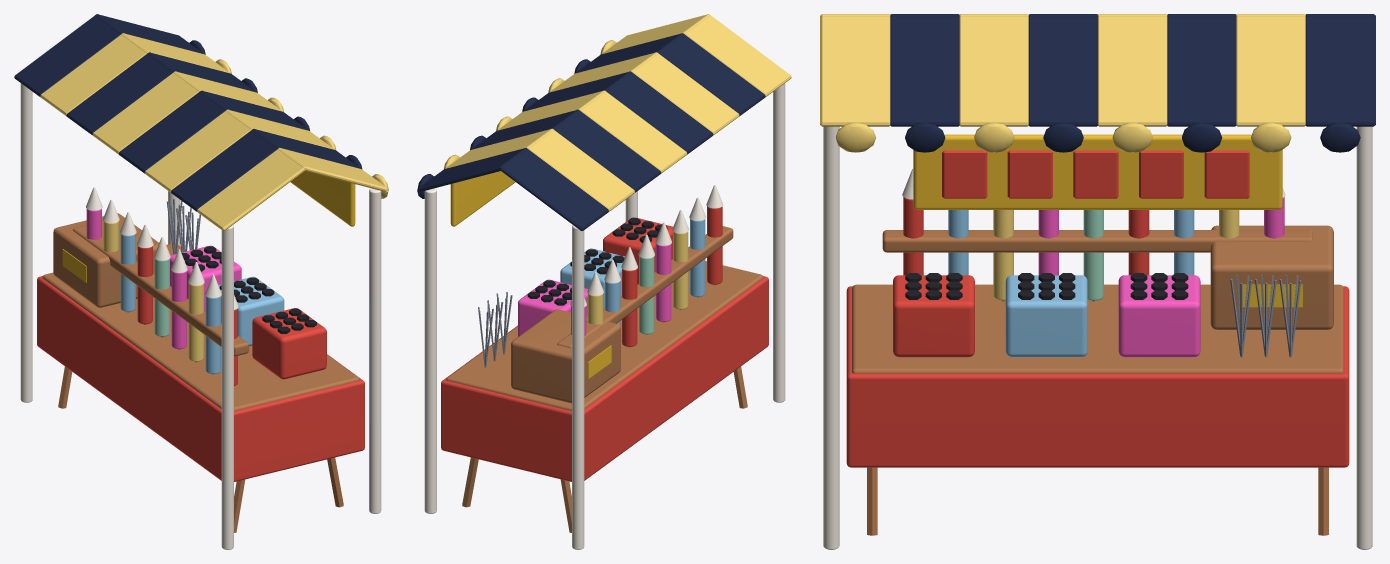
File: fireworks_stand.glb
3 renders of one model, left to right at view 1: azimuth 30°, elevation 25°; view 2: azimuth 150°, elevation 25°; view 3: azimuth 270°, elevation 25°, orthographic. The views are drawn at different scales.
Parts seen in each view (by area): view 1: fireworks_stand; view 2: fireworks_stand; view 3: fireworks_stand.
Part boxes in pixels (x1,y1,x2,y2): fireworks_stand: (14,14,388,549); fireworks_stand: (417,14,791,549); fireworks_stand: (820,14,1375,549).
Size of the model in its own units: 1.31 by 2.61 by 2.71.
Materials: 1 (1 with a texture image).
